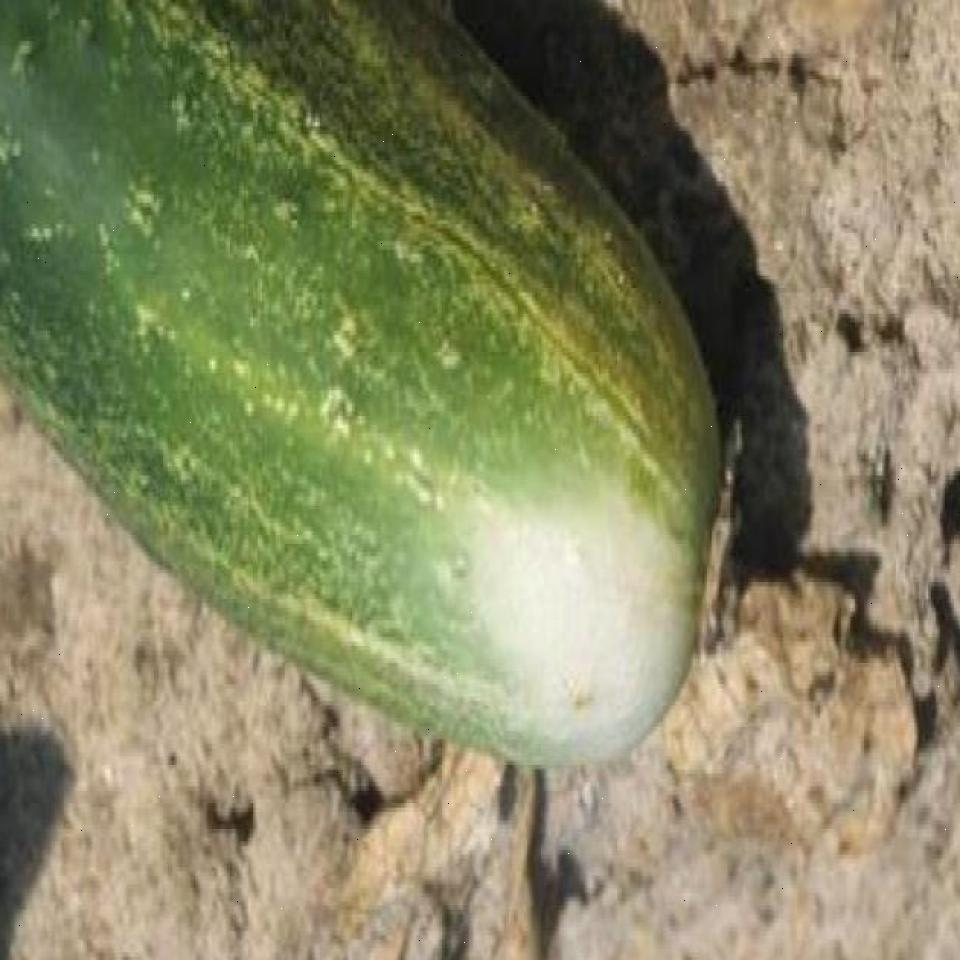Sunscald: (462, 438, 652, 770)
